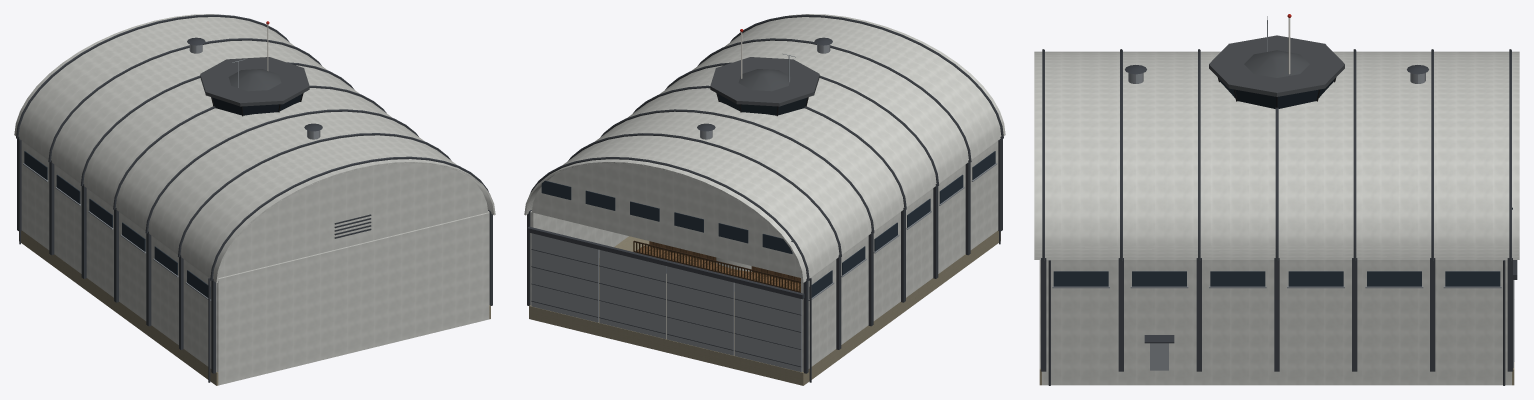
The model's file is props_training.glb.
The picture shows the model from 3 angles, left to right: view 1: azimuth 30°, elevation 25°; view 2: azimuth 150°, elevation 25°; view 3: azimuth 270°, elevation 25°; orthographic projection. The views are drawn at different scales.
Visible parts, largest first — view 1: hangar_a__b_corr_white, hangar_a__f_vc, tower_a__f_vc, hangar_a__b_concrete; view 2: hangar_a__b_corr_white, hangar_a__f_vc, hangar_a__b_concrete, tower_a__f_vc, club_a__b_rawplank, club_a__f_vc; view 3: hangar_a__b_corr_white, hangar_a__f_vc, tower_a__f_vc.
Part boxes in pixels (x1,y1,x2,y2): hangar_a__b_corr_white: (14, 14, 495, 385); hangar_a__f_vc: (16, 14, 492, 382); tower_a__f_vc: (200, 21, 309, 116); hangar_a__b_concrete: (19, 230, 490, 385); hangar_a__b_corr_white: (524, 14, 1005, 371); hangar_a__f_vc: (527, 14, 1003, 382); hangar_a__b_concrete: (529, 230, 1000, 385); tower_a__f_vc: (710, 29, 819, 116); club_a__b_rawplank: (633, 241, 800, 291); club_a__f_vc: (633, 240, 800, 292); hangar_a__b_corr_white: (1034, 51, 1519, 385); hangar_a__f_vc: (1041, 49, 1517, 385); tower_a__f_vc: (1209, 14, 1344, 108).
Bounding box in the file's own units: 25.81 × 21.21 × 31.
12 materials, 11 textured.
